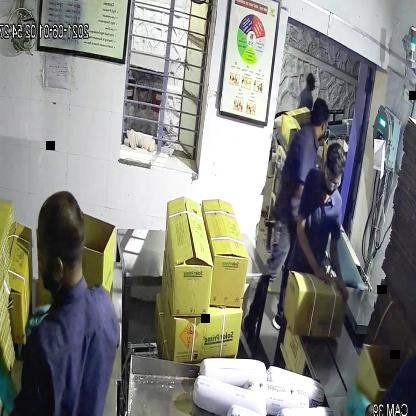goggles: (323, 161, 344, 194)
